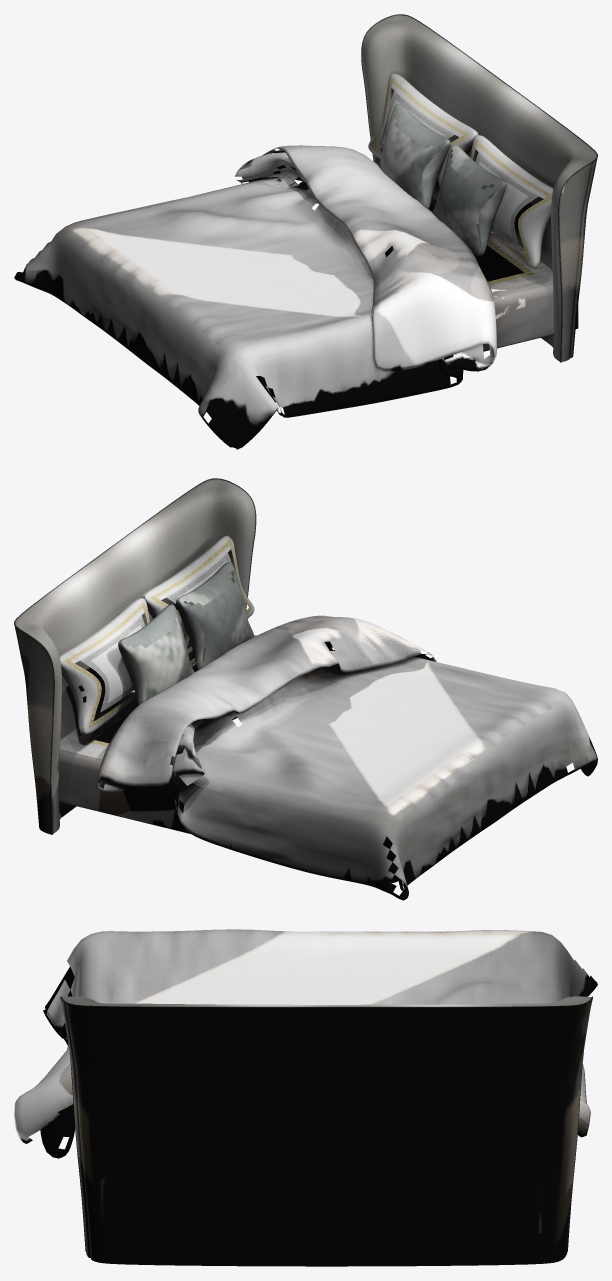
Rendered from Bed.glb.
The picture shows the model from 3 angles, top to bottom: view 1: azimuth 30°, elevation 25°; view 2: azimuth 150°, elevation 25°; view 3: azimuth 270°, elevation 25°; orthographic projection. The views are drawn at different scales.
Parts seen in each view (by area): view 1: export_sample_bedroom_BED_FURN_01; view 2: export_sample_bedroom_BED_FURN_01; view 3: export_sample_bedroom_BED_FURN_01.
Part boxes in pixels (x1,y1,x2,y2): export_sample_bedroom_BED_FURN_01: (14,14,597,449); export_sample_bedroom_BED_FURN_01: (14,478,597,900); export_sample_bedroom_BED_FURN_01: (14,929,597,1266).
Bounding box in the file's own units: 2.36 × 1.18 × 2.31.
Materials: 1 (1 with a texture image).
